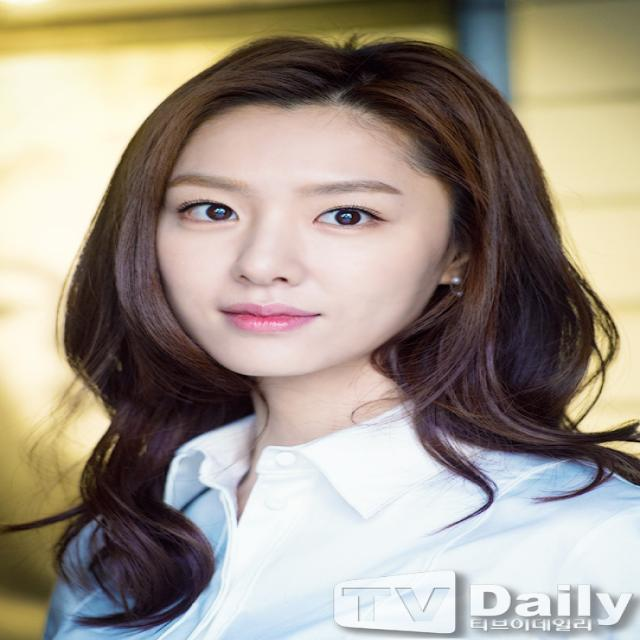face: (162, 101, 441, 382)
